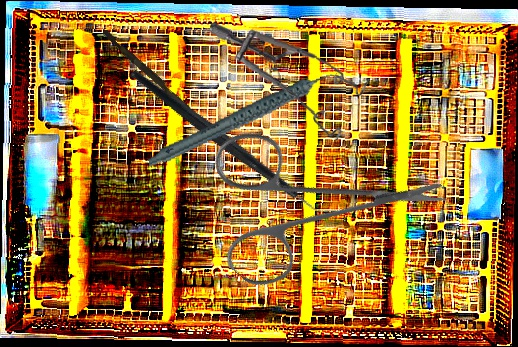Chopper: (128, 19, 339, 265)
Handpiece: (138, 70, 354, 169)
Iris Scissors: (164, 60, 453, 347)
Pusher: (100, 29, 205, 122)
Speculum: (202, 21, 372, 144)
